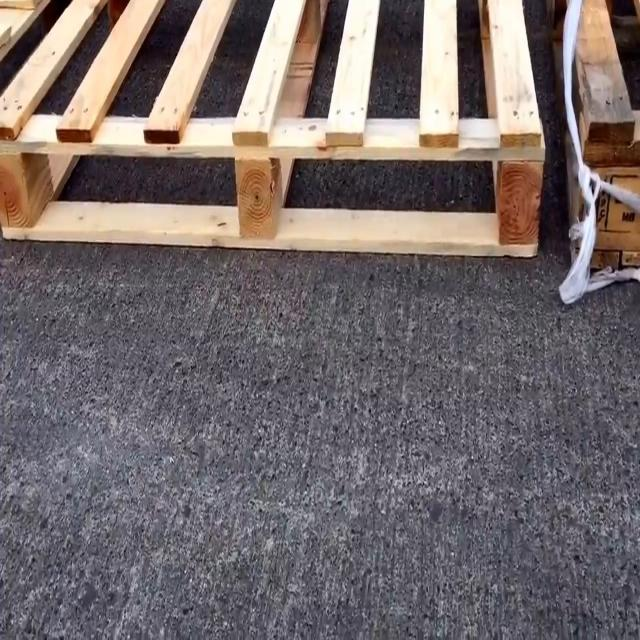Palette: (0, 0, 550, 265), (565, 0, 639, 276)
